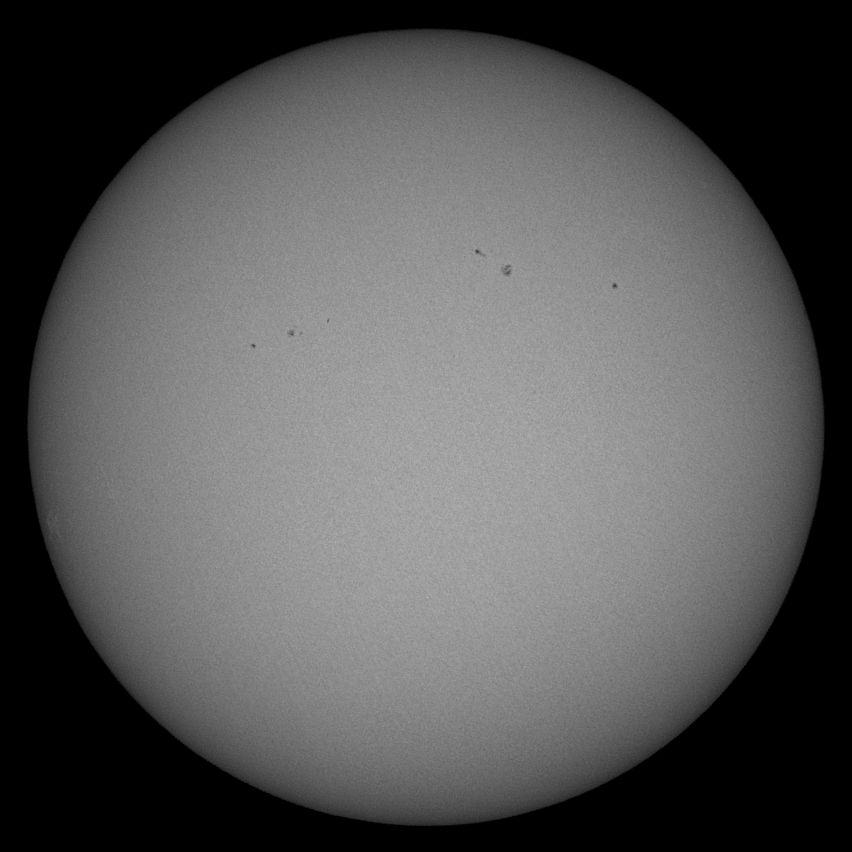sunspot: (282, 322, 304, 338), (499, 263, 517, 281), (470, 243, 487, 259), (246, 337, 258, 351), (609, 281, 622, 292)
